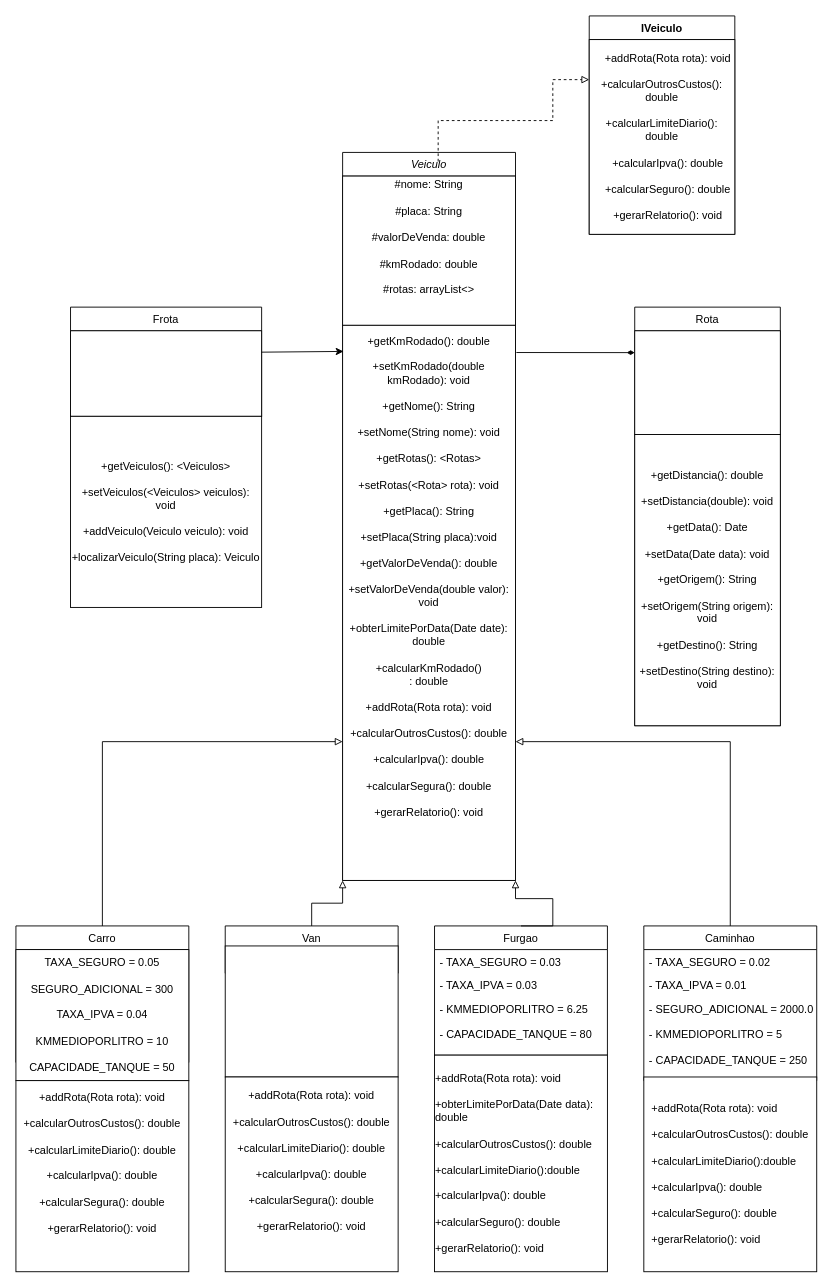
Some shapes in this 834 by 1288 pixel diagram are drawn without their labels. Here are the shapes that lost their labels. From the top down, the centre of each, then its label:
At (166,373): "-veiculos: ArrayList<>".
At (707,382): "-distancia: double -data: Date -origem: String -destino: String".
At (311,1011): "TAXA_SEGURO = 0.03 TAXA_IPVA = 0.03 KMMEDIOPORLITRO = 10 CAPACIDADE_TANQUE = 60".
